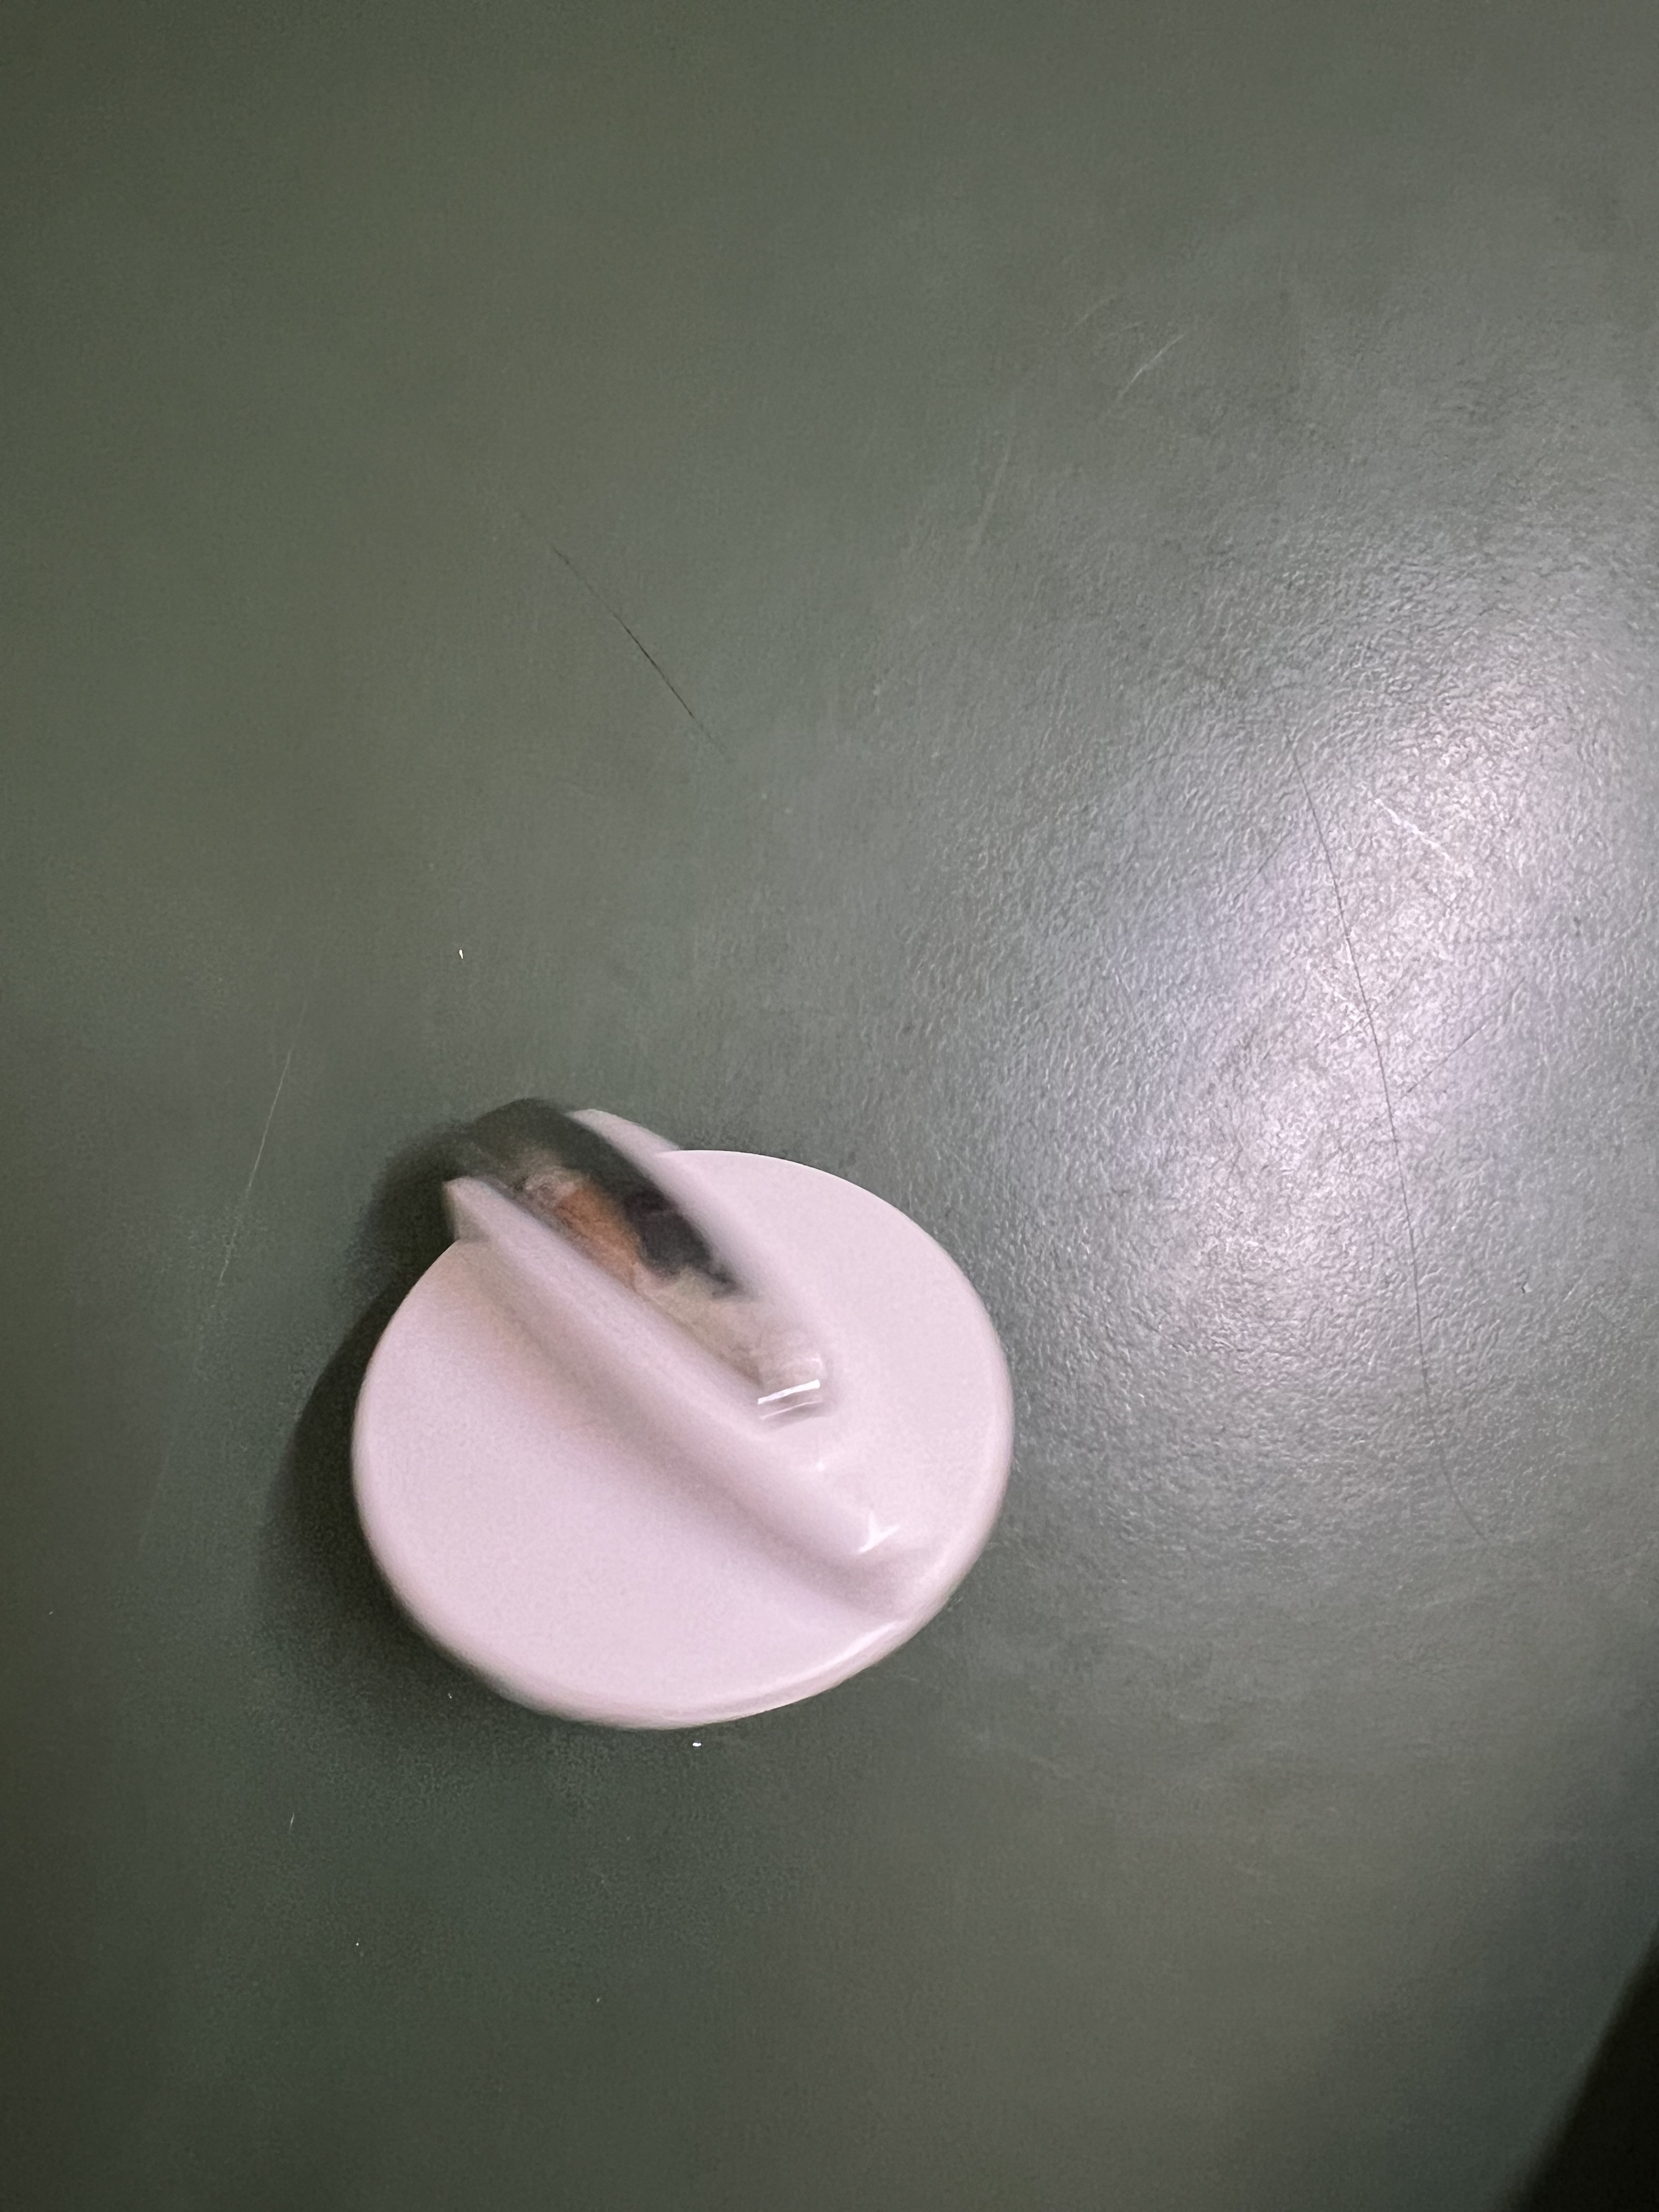regulator: (328, 1111, 1046, 1745)
